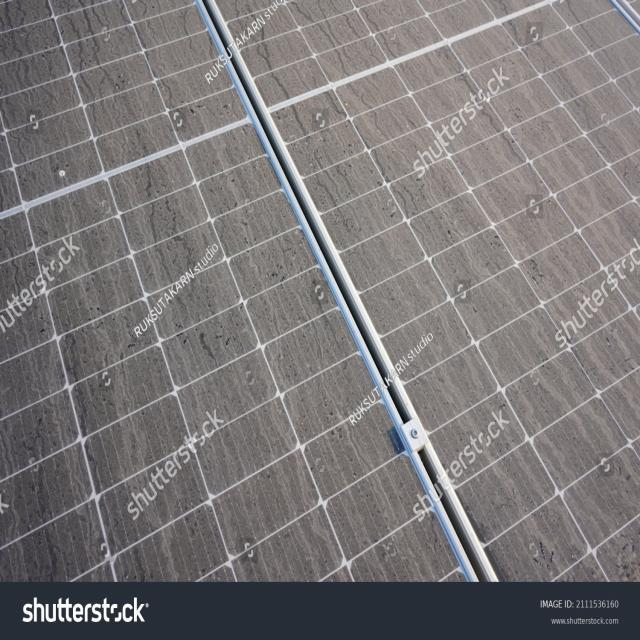Dusty: (0, 0, 640, 582)
